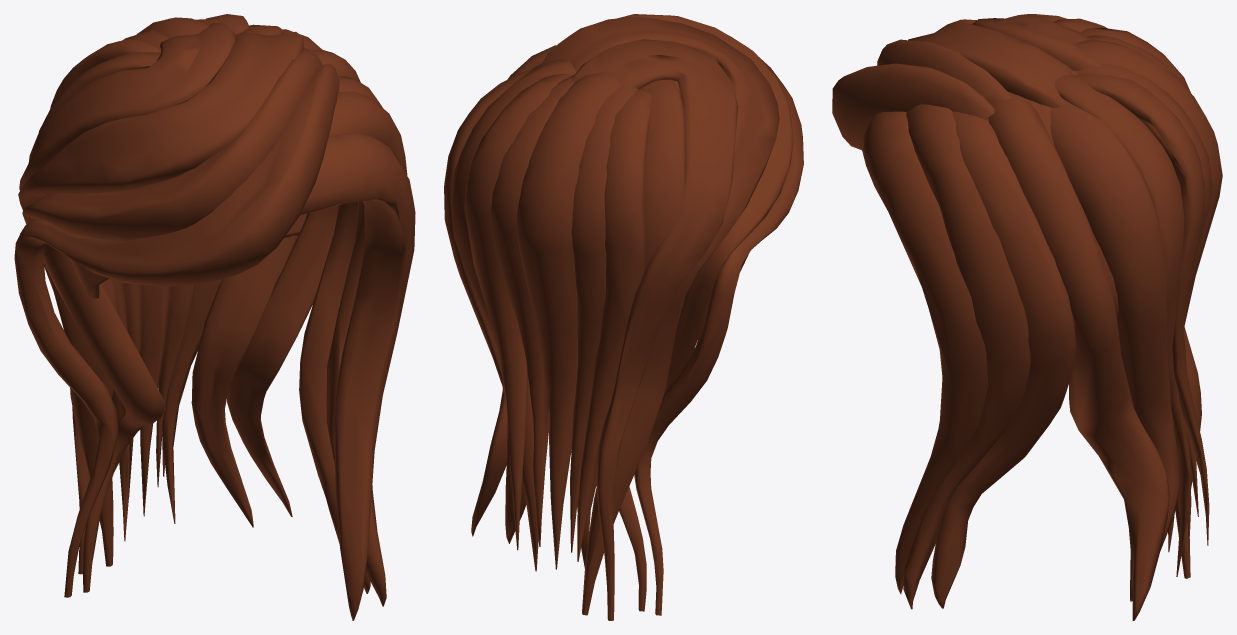
The model's file is hair-4-0a2f214f.glb.
3 renders of one model, left to right at view 1: azimuth 30°, elevation 25°; view 2: azimuth 150°, elevation 25°; view 3: azimuth 270°, elevation 25°, orthographic. The views are drawn at different scales.
Parts seen in each view (by area): view 1: hair_4.001; view 2: hair_4.001; view 3: hair_4.001.
Part boxes in pixels (x1=…): hair_4.001: x1=14, y1=14, x2=415, y2=620; hair_4.001: x1=444, y1=14, x2=803, y2=620; hair_4.001: x1=832, y1=14, x2=1222, y2=620.
Bounding box in the file's own units: 2.02 × 3.35 × 2.12.
